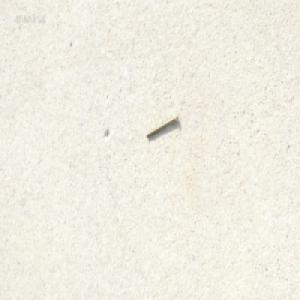Bolt: (145, 112, 178, 139)
